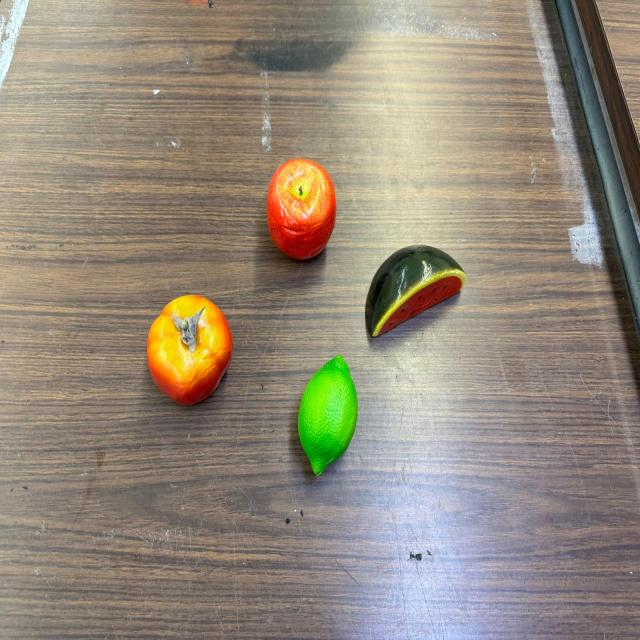apple: (266, 158, 336, 259)
lemon: (297, 354, 358, 479)
tomato: (147, 293, 232, 406)
watermelon: (370, 244, 466, 337)
